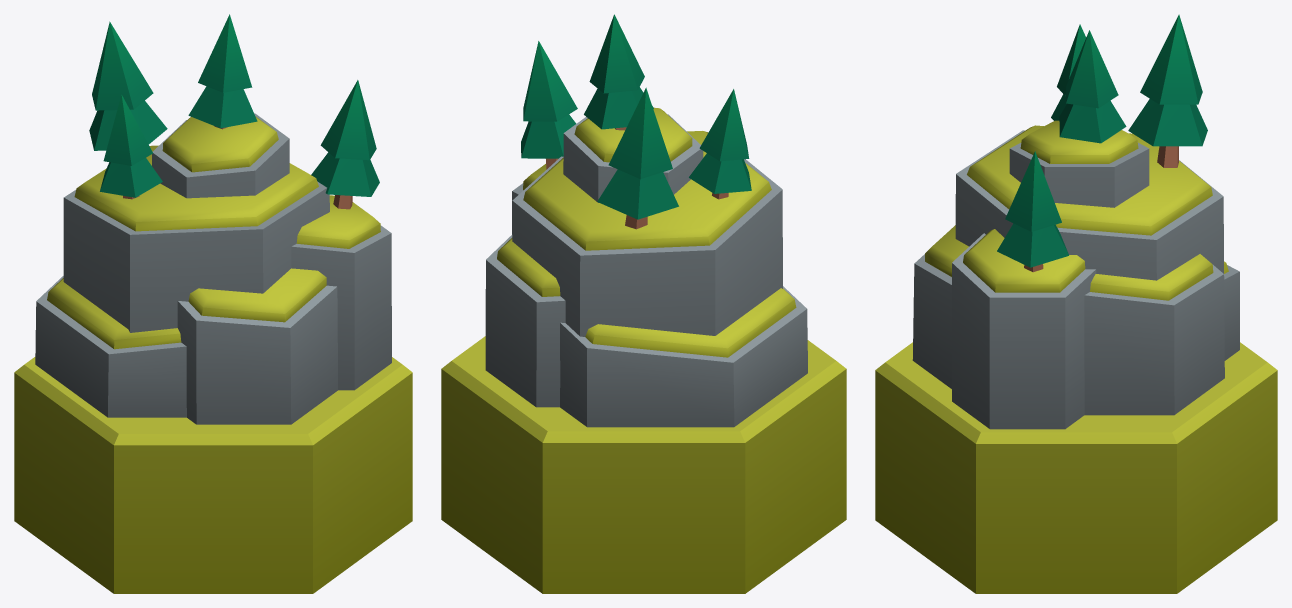
The model's file is hex_mountain_a_trees.glb.
3 views of the same model, side by side, from view 1: azimuth 30°, elevation 25°; view 2: azimuth 150°, elevation 25°; view 3: azimuth 270°, elevation 25° (orthographic).
Visible parts, largest first — view 1: hex_grass; view 2: hex_grass; view 3: hex_grass.
Boxes of the visible parts, left/top/right/bottom form: hex_grass: left=14, top=14, right=412, bottom=593; hex_grass: left=441, top=14, right=846, bottom=593; hex_grass: left=875, top=14, right=1277, bottom=593.
Bounding box in the file's own units: 1 × 1.59 × 1.15.
Materials: 1 (1 with a texture image).
